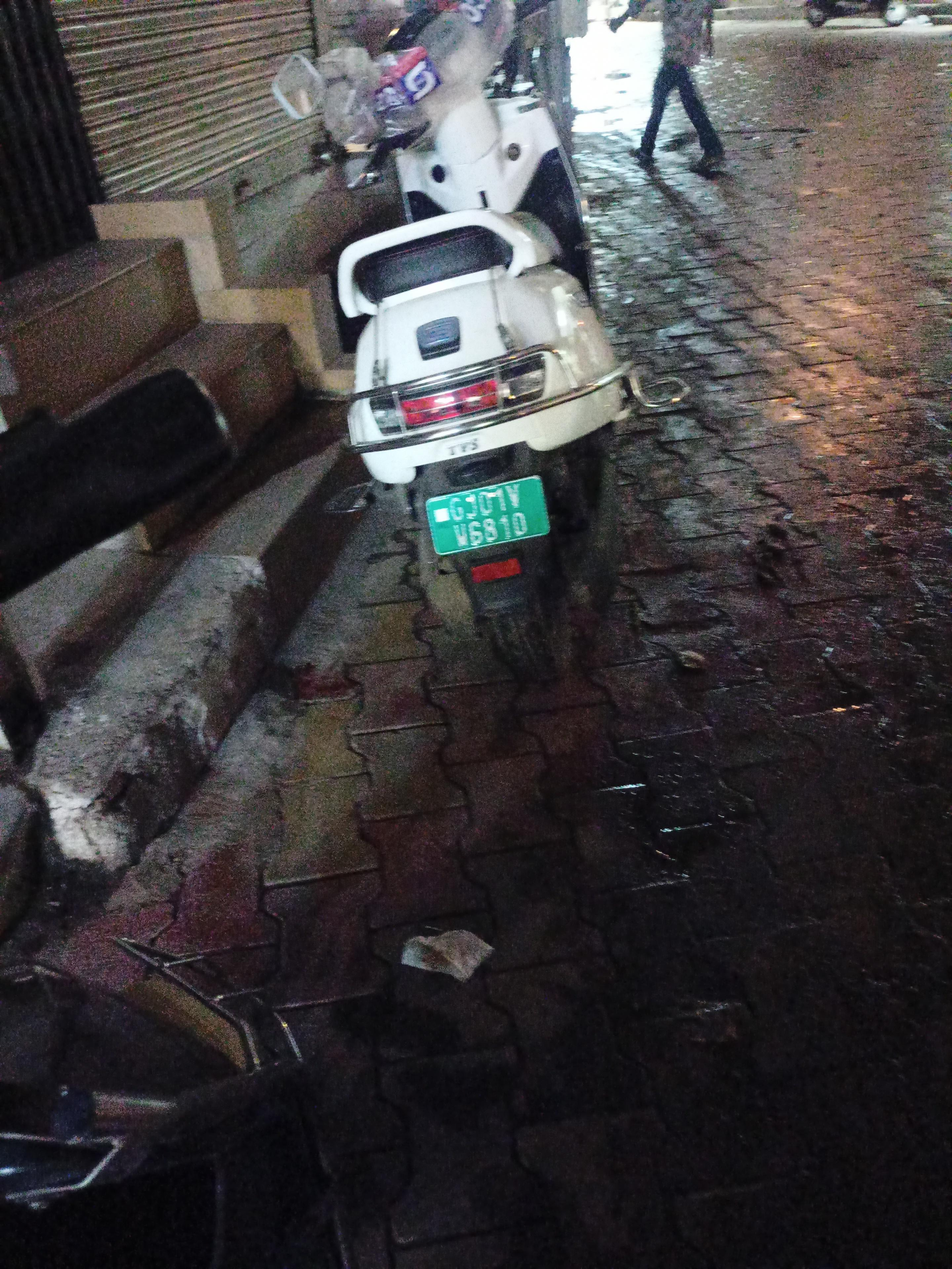green license plate: (415, 478, 557, 565)
